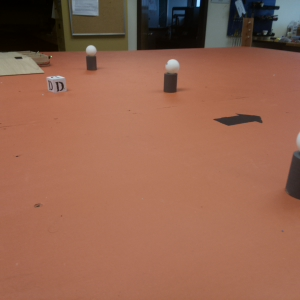blockD: (47, 75, 67, 93)
corner: (241, 17, 250, 51)
obstacle: (287, 129, 300, 201), (162, 60, 177, 92), (85, 44, 97, 71)
side: (38, 49, 56, 66)
slope: (1, 57, 42, 77)
start: (213, 110, 267, 127)
